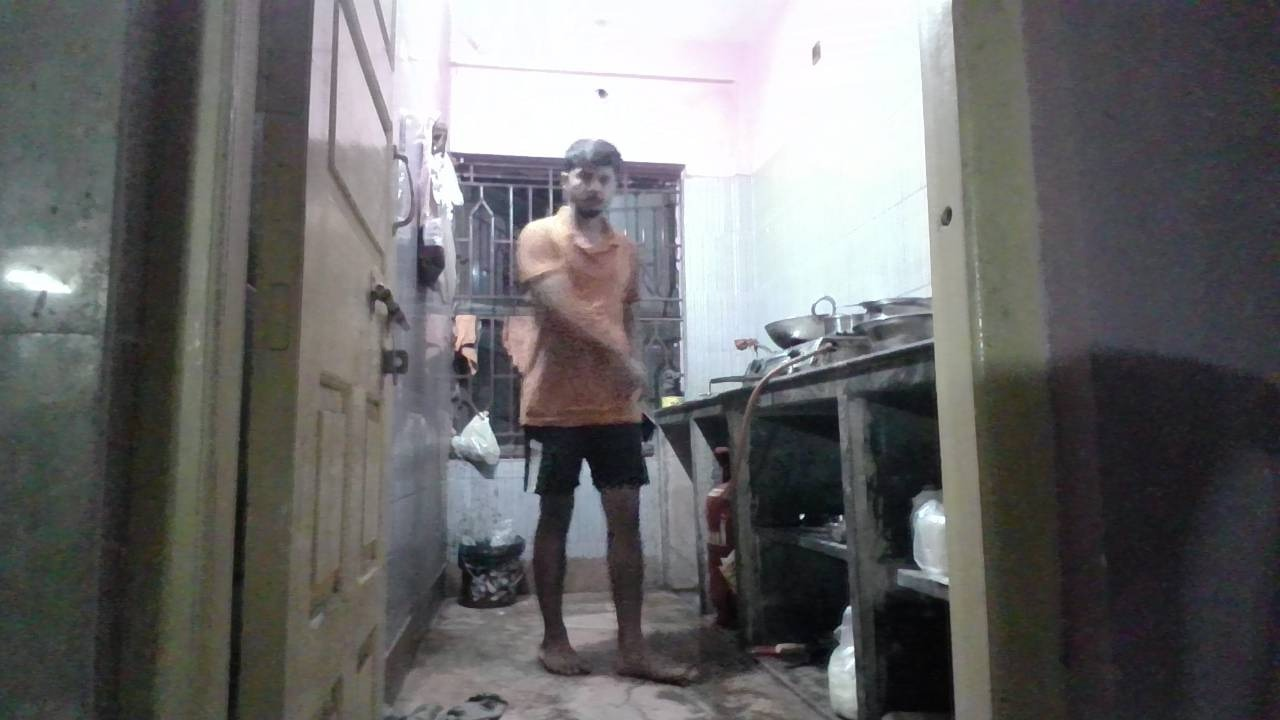red_box: (561, 394, 629, 425)
